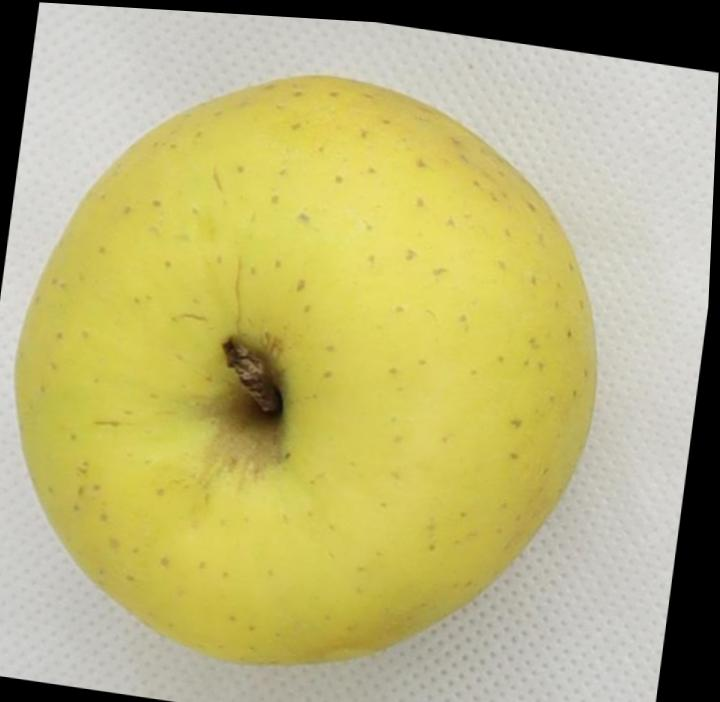apple: (14, 77, 594, 666)
